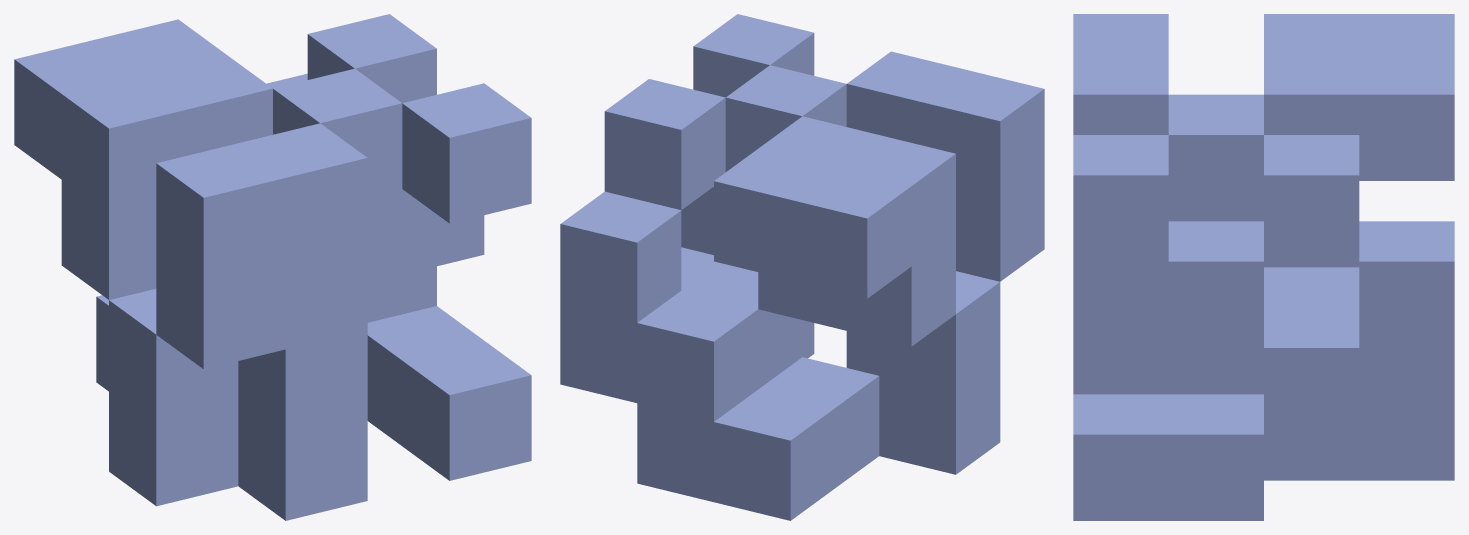
3 renders of one model, left to right at view 1: azimuth 30°, elevation 25°; view 2: azimuth 150°, elevation 25°; view 3: azimuth 270°, elevation 25°, orthographic. The views are drawn at different scales.
Parts seen in each view (by area): view 1: _changes.023; view 2: _changes.023; view 3: _changes.023.
Part boxes in pixels (x1,y1,x2,y2): _changes.023: [14, 14, 531, 520]; _changes.023: [560, 14, 1044, 520]; _changes.023: [1073, 14, 1454, 520].
Size of the model in its own units: 0.1041 by 0.1041 by 0.1041.
